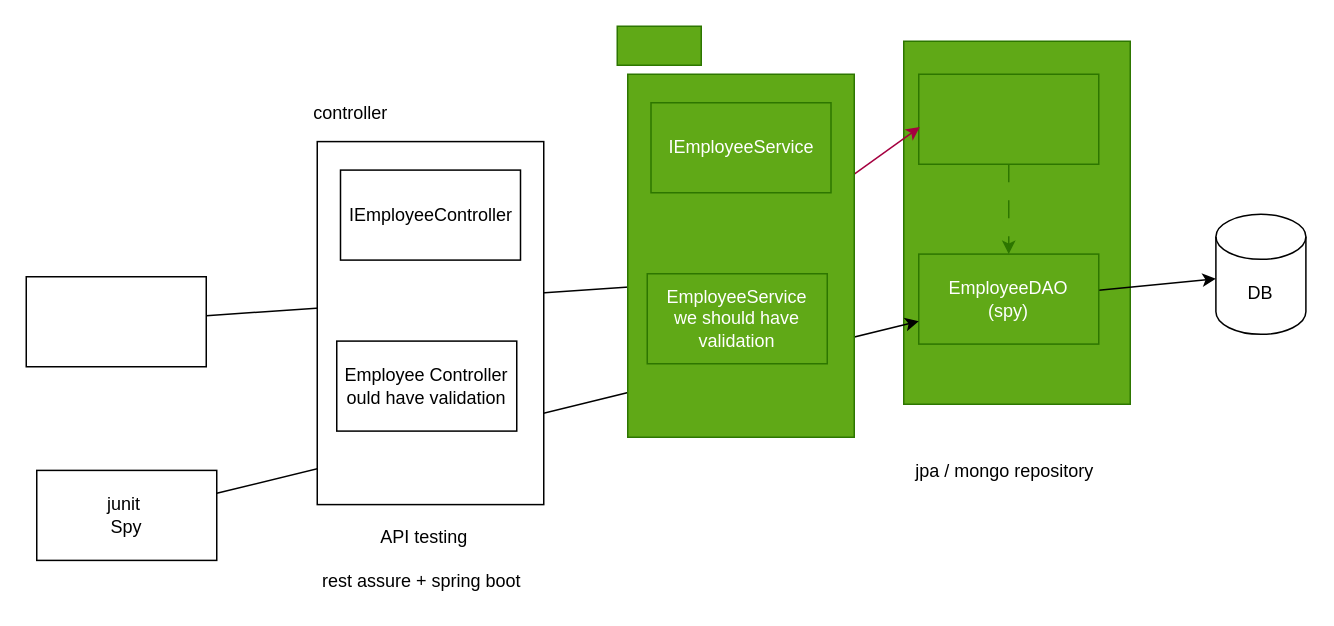
This 1334x626 diagram has some shape labels left out. The centre of each missing label's shape, as x and y in pixels:
"IEmployeeDAO" belongs at (1008,118).
"junit mock" belongs at (115,321).
"service" belongs at (658,45).
